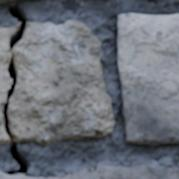brick: (118, 14, 178, 144)
broken_brick: (8, 19, 115, 146), (0, 164, 178, 178), (0, 22, 18, 108), (0, 114, 8, 144), (0, 0, 32, 4)
crack: (0, 2, 30, 176)
